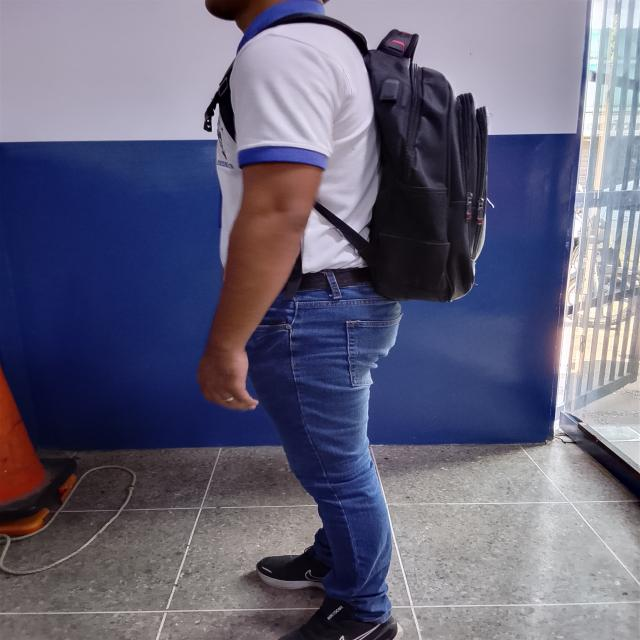uniforme_superior: (215, 0, 383, 274)
